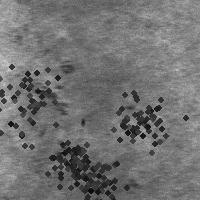rolled-in_scale: (0, 45, 77, 157), (96, 76, 180, 160), (32, 126, 110, 200), (31, 59, 74, 161), (60, 150, 130, 200)
